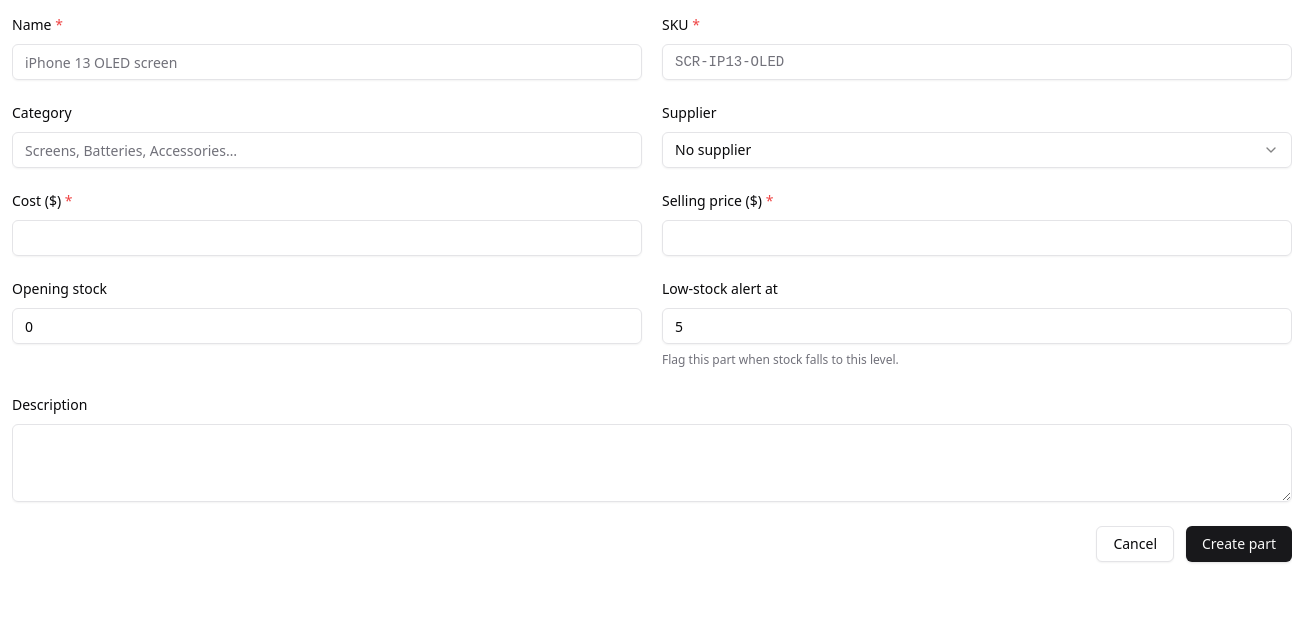
Test: PartForm › rejects SKUs with spaces
In the field labelled "SKU *": (977, 62) [662,44,1292,80], type "BAD SKU"
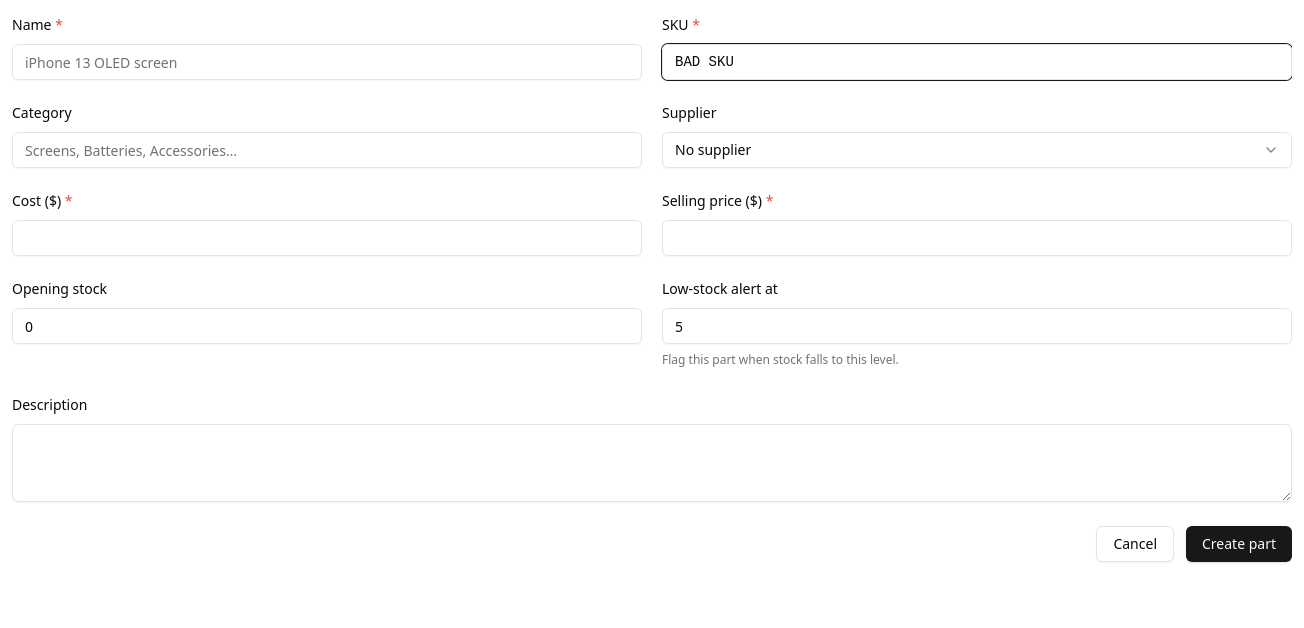
Click the button "Create part": (1239, 544) [1186,526,1292,562]
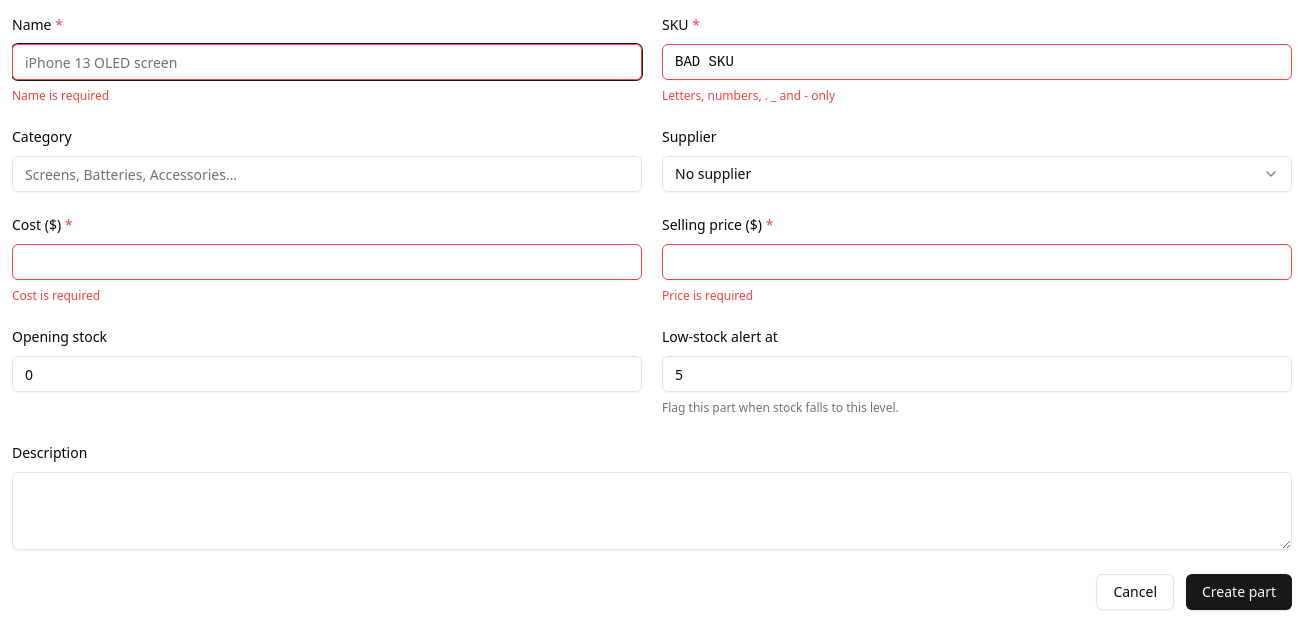
Check: the text "Letters, numbers, . _ and - only" is shown, box [662,87,835,104]
